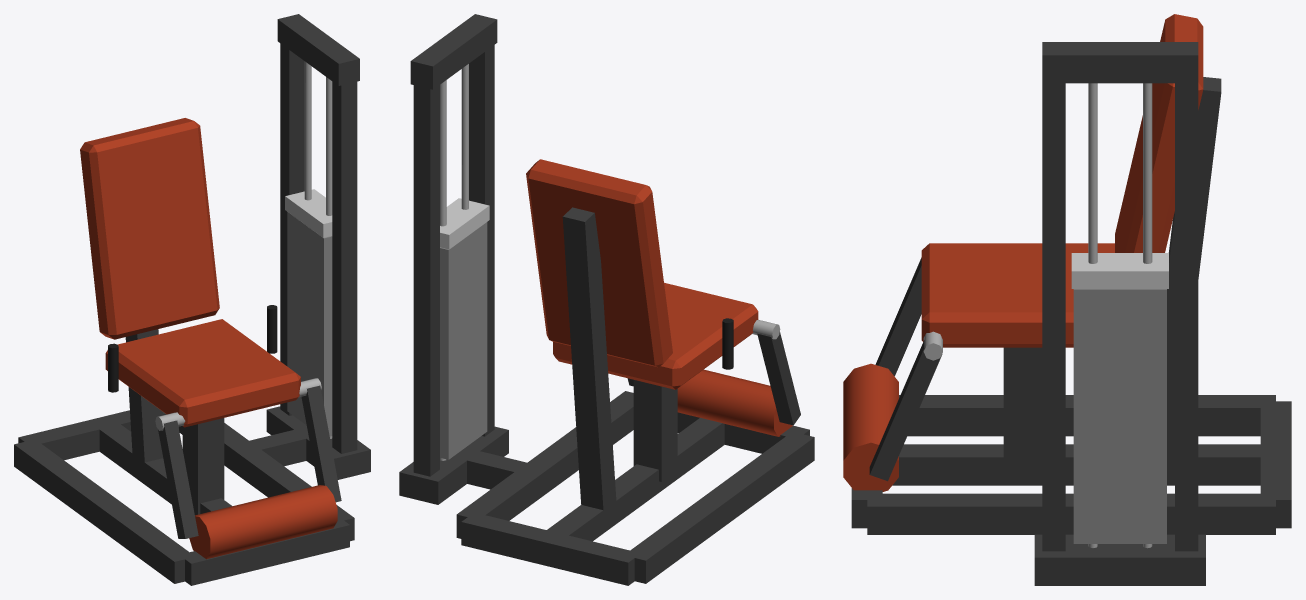
Rendered from Leg_Extension.fbx.
The picture shows the model from 3 angles, left to right: view 1: azimuth 30°, elevation 25°; view 2: azimuth 150°, elevation 25°; view 3: azimuth 270°, elevation 25°; orthographic projection. The views are drawn at different scales.
Parts seen in each view (by area): view 1: Leg_Extension; view 2: Leg_Extension; view 3: Leg_Extension.
Part boxes in pixels (<box>): Leg_Extension: <box>14,14,370,585</box>; Leg_Extension: <box>399,14,814,585</box>; Leg_Extension: <box>843,14,1291,585</box>.
Bounding box in the file's own units: 99 × 149 × 115.
